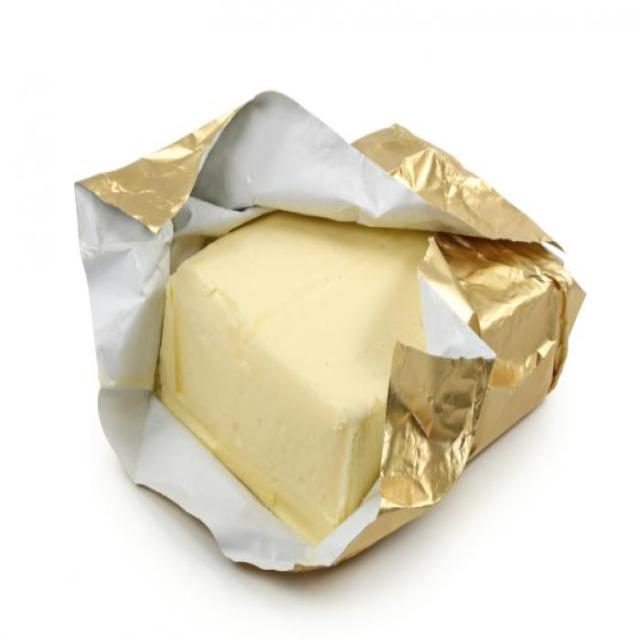Butter: (151, 122, 558, 536)
